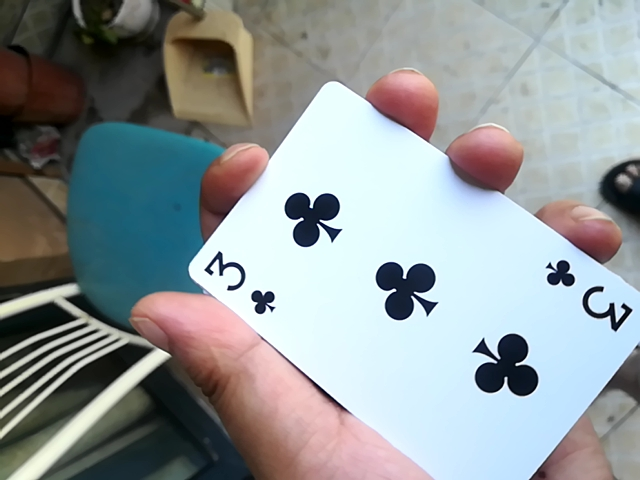mh 3: (164, 74, 639, 480)
